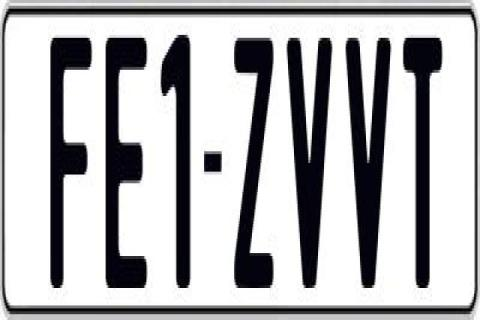0: (160, 27, 190, 297)
E: (102, 29, 148, 297)
F: (47, 35, 94, 294)
T: (402, 32, 442, 296)
V: (286, 32, 336, 296), (346, 29, 394, 288)
Z: (230, 38, 272, 294)
